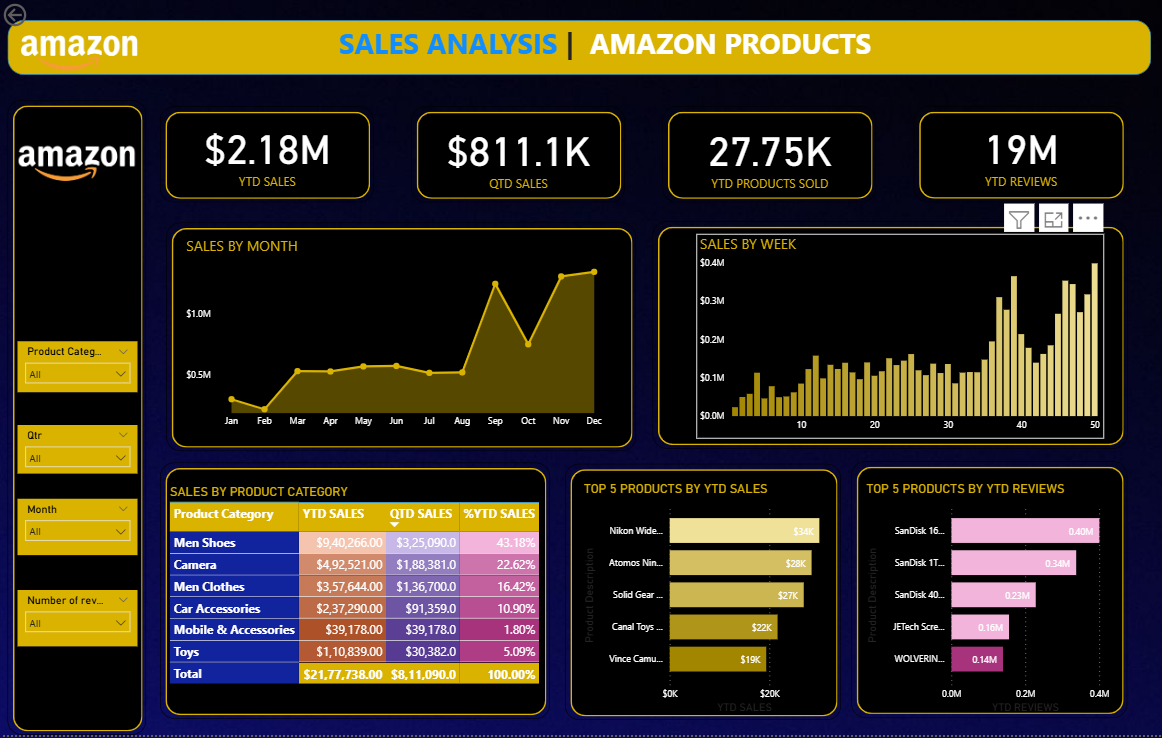

The page's visual inventory and layout, read from the dashboard file:
{"tool":"powerbi","page":{"name":"Page 1","canvas":[1550,980],"ordinal":0},"visuals":[{"type":"shape","box":[10,133.3,185,846.7],"z":0},{"type":"shape","box":[213.3,141.7,285,128.3],"z":1000},{"type":"shape","box":[753.3,618.3,368.3,341.7],"z":2000},{"type":"shape","box":[548.3,141.7,285,128.3],"z":3000},{"type":"shape","box":[1135,615,368,342],"z":4000},{"type":"shape","box":[213.3,616.7,520,341.7],"z":5000},{"type":"shape","box":[221.7,296.7,626.7,305],"z":6000},{"type":"shape","box":[10,26.7,1525,73.3],"z":7000},{"type":"textbox","box":[408.3,26.7,796.7,71.7],"z":8000},{"type":"shape","box":[1218.3,141.7,285,128],"z":9000},{"type":"card","fields":{"Values":["Amazon_Data.YTD"]},"box":[233.3,153.3,246.7,100],"z":10000},{"type":"shape","box":[883.3,141.7,285,128.3],"z":11000},{"type":"card","fields":{"Values":["Amazon_Data.QTD SALES"]},"box":[576.7,151.7,230,110],"z":12000},{"type":"card","fields":{"Values":["Amazon_Data.YTD PRODUCTS SOLD"]},"box":[911.7,151.7,230,110],"z":13000},{"type":"card","fields":{"Values":["Amazon_Data.YTD REVIEWS"]},"box":[1246.7,148.3,230,110],"z":14000},{"type":"stackedAreaChart","title":"SALES BY MONTH","fields":{"Category":["Date Table.Month"],"Y":["Amazon_Data.Price(Dollar)"]},"box":[243.3,315,571.7,265],"z":15000},{"type":"shape","box":[870,295,633.3,303.3],"z":16000},{"type":"clusteredColumnChart","title":"SALES BY WEEK","fields":{"Category":["Date Table.Week"],"Y":["Amazon_Data.Price(Dollar)"]},"box":[928.3,311.7,543.3,273.3],"z":17000},{"type":"pivotTable","title":"SALES BY PRODUCT CATEGORY","fields":{"Rows":["Amazon_Data.Product Category"],"Values":["Amazon_Data.YTD SALES","Amazon_Data.QTD SALES","Divide(Amazon_Data.YTD SALES, ScopedEval(Amazon_Data.YTD SALES, []))"]},"box":[221.7,645,516.7,290],"z":18000},{"type":"barChart","title":"TOP 5 PRODUCTS BY YTD SALES","fields":{"Category":["Amazon_Data.Product Description"],"Y":["Amazon_Data.YTD SALES"]},"box":[773.3,641.7,338.3,315],"z":19000},{"type":"barChart","title":"TOP 5 PRODUCTS BY YTD REVIEWS","fields":{"Category":["Amazon_Data.Product Description"],"Y":["Amazon_Data.YTD REVIEWS"]},"box":[1150,641.7,335,315],"z":20000},{"type":"slicer","fields":{"Values":["Amazon_Data.Product Category"]},"box":[23.3,455,160,68.3],"z":21000},{"type":"slicer","fields":{"Values":["Date Table.Qtr"]},"box":[23.3,566.7,160,65],"z":22000},{"type":"slicer","fields":{"Values":["Date Table.Month"]},"box":[23.3,665,160,75],"z":23000},{"type":"slicer","fields":{"Values":["Amazon_Data.Number of  reviews"]},"box":[23.3,786.7,160,75],"z":24000},{"type":"image","box":[20,133.3,166.7,178.3],"z":25000},{"type":"image","box":[23.3,8.3,166.7,133.3],"z":26000},{"type":"actionButton","box":[0,0,100,40],"z":27000}]}

Visuals, with their boxes in screenshot pixels (x1, y1, x2, y2), scaled from the page's 1550x980 canvas onto the 1162x738 screenshot:
shape: <box>7,100,146,737</box>
shape: <box>160,107,374,203</box>
shape: <box>565,466,841,723</box>
shape: <box>411,107,625,203</box>
shape: <box>851,463,1127,721</box>
shape: <box>160,464,550,722</box>
shape: <box>166,223,636,453</box>
shape: <box>7,20,1151,75</box>
textbox: <box>306,20,903,74</box>
shape: <box>913,107,1127,203</box>
card - Amazon_Data.YTD: <box>175,115,360,191</box>
shape: <box>662,107,876,203</box>
card - Amazon_Data.QTD SALES: <box>432,114,605,197</box>
card - Amazon_Data.YTD PRODUCTS SOLD: <box>683,114,856,197</box>
card - Amazon_Data.YTD REVIEWS: <box>935,112,1107,195</box>
"SALES BY MONTH" stackedAreaChart: <box>182,237,611,437</box>
shape: <box>652,222,1127,451</box>
"SALES BY WEEK" clusteredColumnChart: <box>696,235,1103,441</box>
"SALES BY PRODUCT CATEGORY" pivotTable: <box>166,486,554,704</box>
"TOP 5 PRODUCTS BY YTD SALES" barChart: <box>580,483,833,720</box>
"TOP 5 PRODUCTS BY YTD REVIEWS" barChart: <box>862,483,1113,720</box>
slicer - Amazon_Data.Product Category: <box>17,343,137,394</box>
slicer - Date Table.Qtr: <box>17,427,137,476</box>
slicer - Date Table.Month: <box>17,501,137,557</box>
slicer - Amazon_Data.Number of  reviews: <box>17,592,137,649</box>
image: <box>15,100,140,235</box>
image: <box>17,6,142,107</box>
actionButton: <box>0,0,75,30</box>
